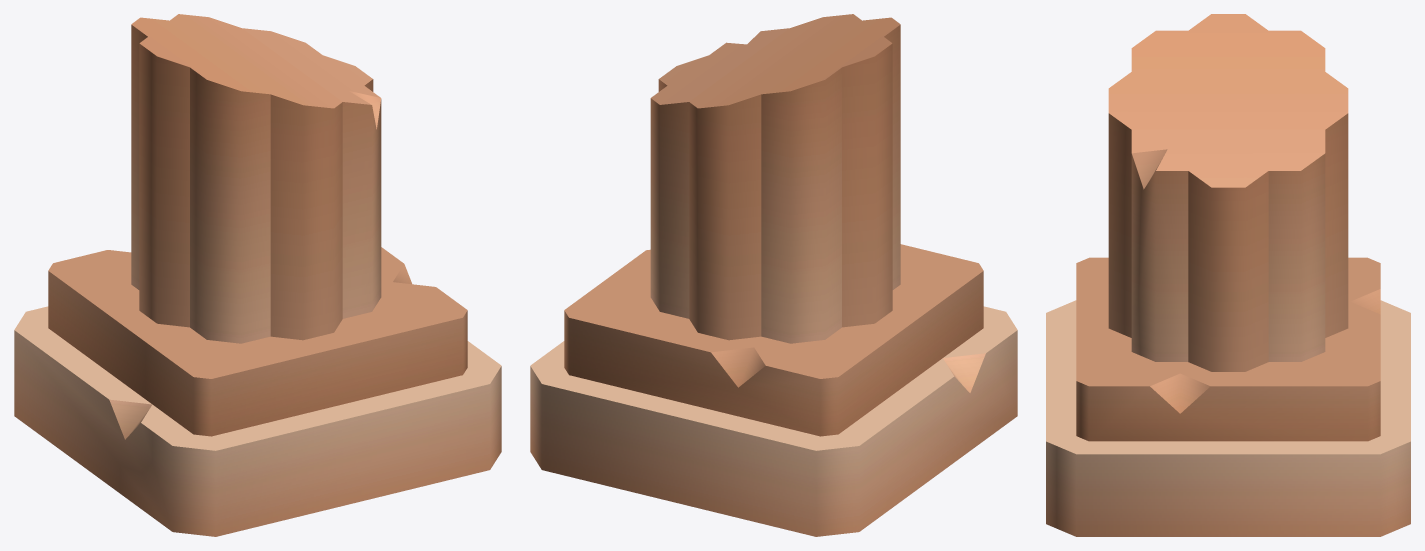
File: broken_pillar.glb
3 renders of one model, left to right at view 1: azimuth 30°, elevation 25°; view 2: azimuth 150°, elevation 25°; view 3: azimuth 270°, elevation 25°, orthographic. The views are drawn at different scales.
Parts seen in each view (by area): view 1: column-damaged; view 2: column-damaged; view 3: column-damaged.
Part boxes in pixels (left/top/right/bottom): column-damaged: left=14, top=14, right=501, bottom=536; column-damaged: left=530, top=14, right=1017, bottom=536; column-damaged: left=1046, top=14, right=1410, bottom=536.
Size of the model in its own units: 0.6 by 0.7157 by 0.6.
1 material, 1 textured.
